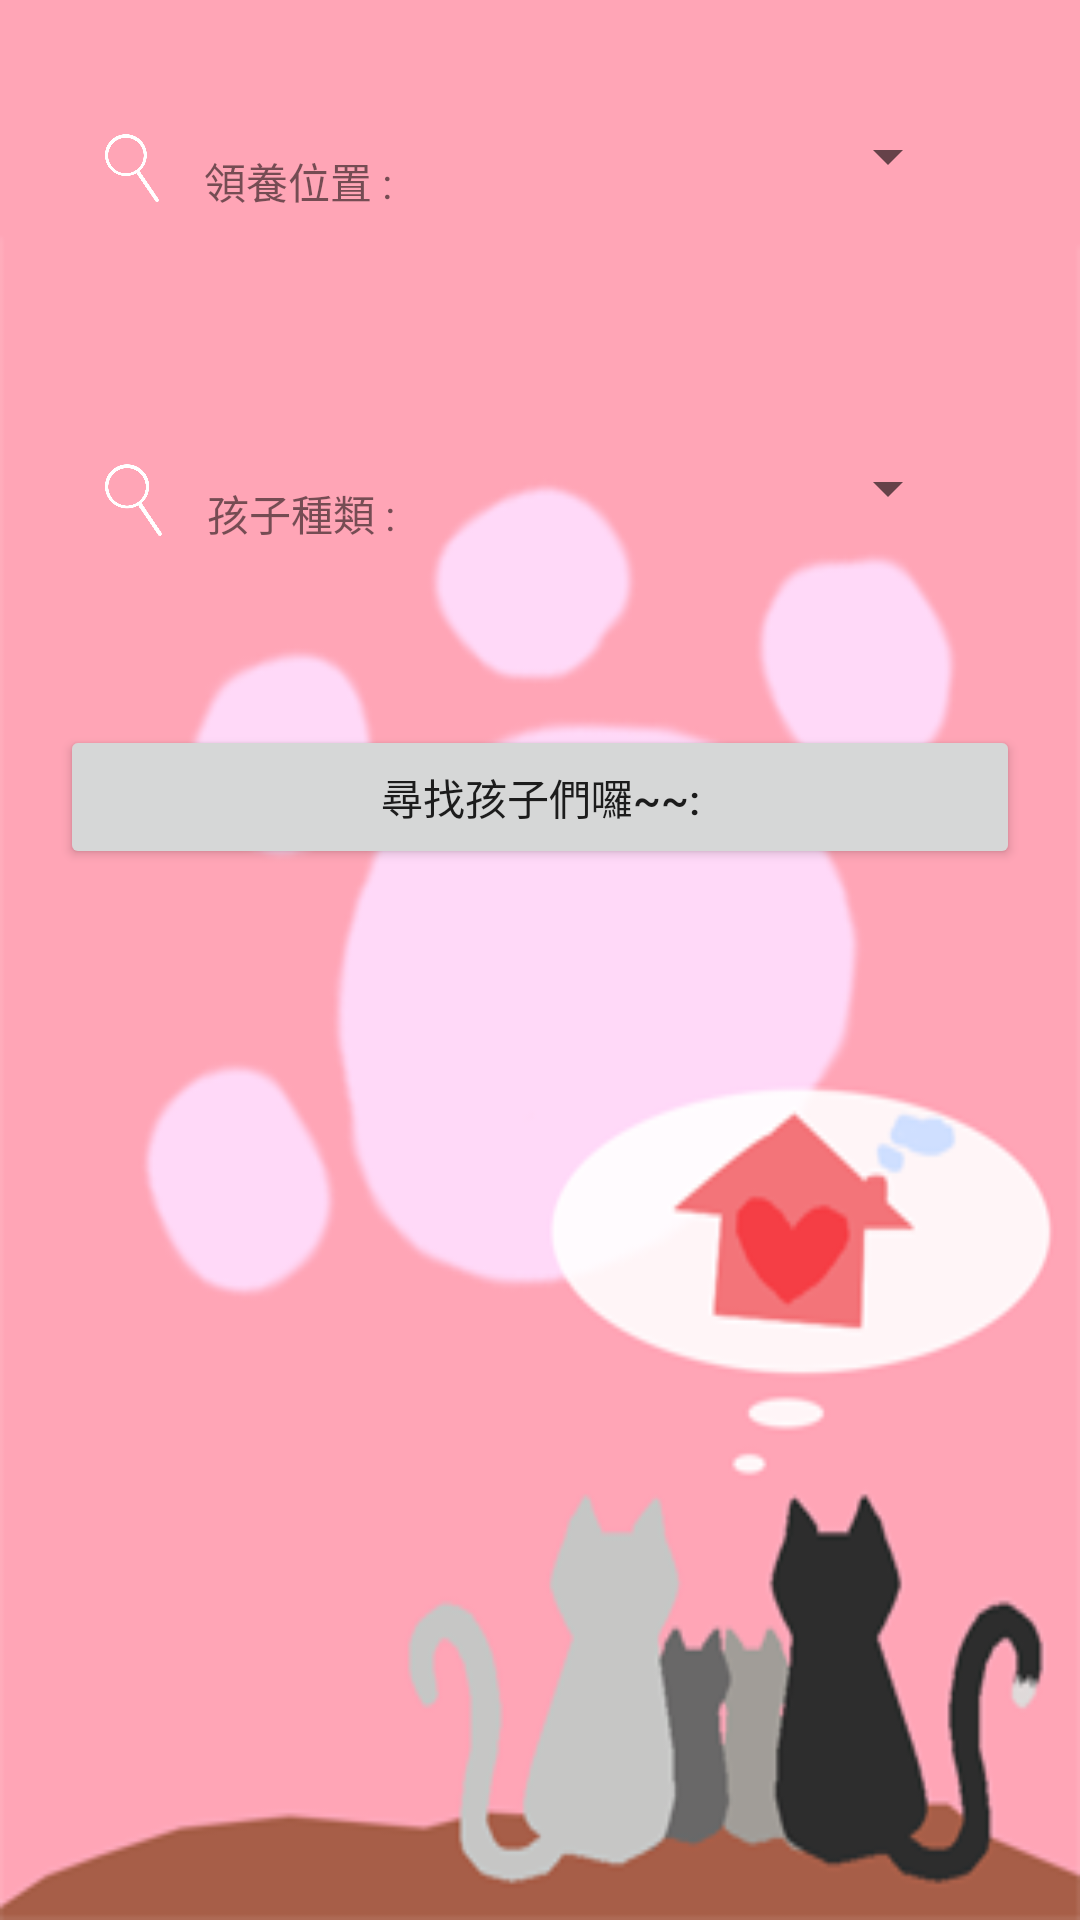

Locate icon controls on the screen. Image size 1080x1920, boxes as (x1, y1, x2, y2).
search: (105, 134, 159, 202), (105, 464, 162, 536)
